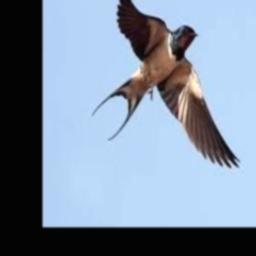Swallow: (92, 0, 242, 167)
